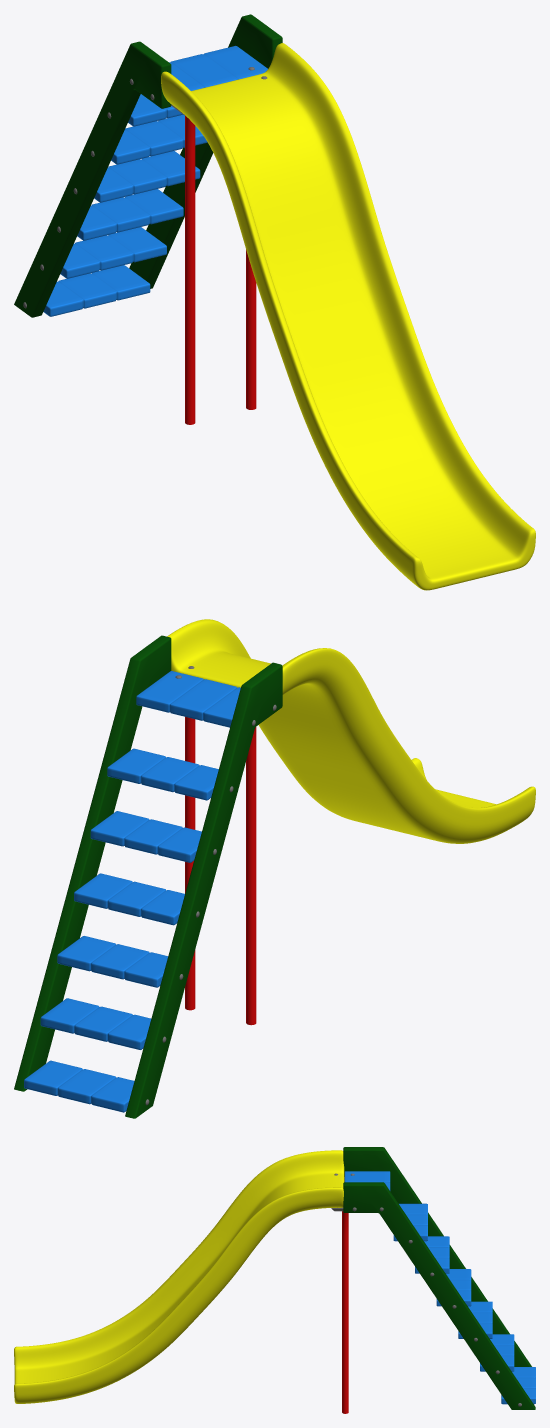
Rendered from slide.obj.
3 views of the same model, one above another, from view 1: azimuth 30°, elevation 25°; view 2: azimuth 150°, elevation 25°; view 3: azimuth 270°, elevation 25° (orthographic). The views are drawn at different scales.
Visible parts, largest first — view 1: Slide; view 2: Slide; view 3: Slide.
Boxes of the visible parts, x1,y1,x2,y2 form: Slide: [14, 14, 535, 590]; Slide: [14, 619, 535, 1118]; Slide: [14, 1147, 535, 1413].
Size of the model in its own units: 64.92 by 182 by 363.
